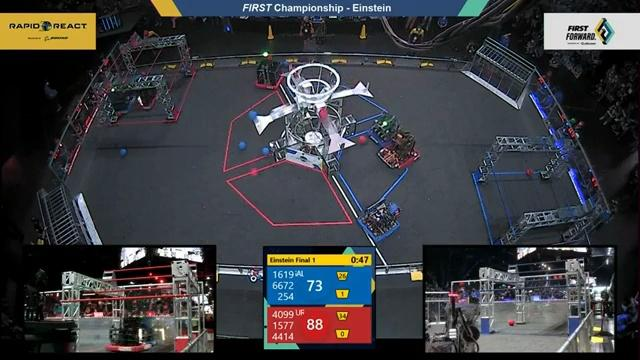robot: (356, 200, 401, 244), (379, 132, 422, 170), (105, 314, 144, 353), (367, 112, 402, 148), (255, 58, 286, 92), (110, 86, 136, 117), (136, 89, 157, 112), (143, 317, 157, 351)
